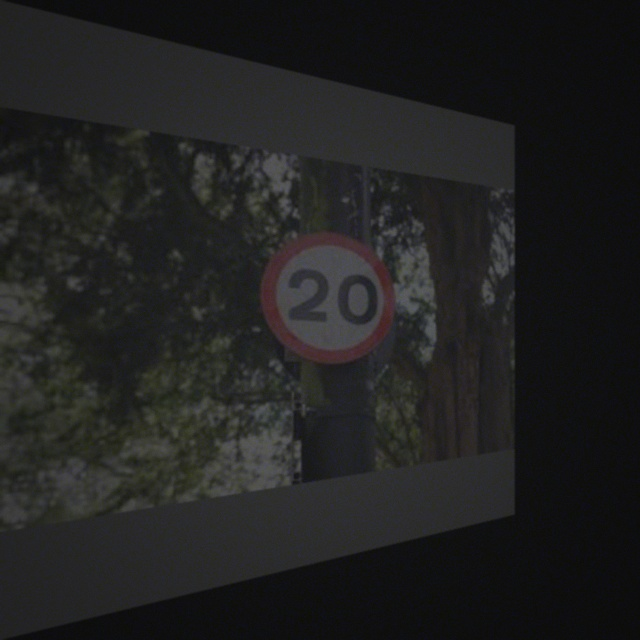Speed_Limit_20: (258, 227, 398, 366)
